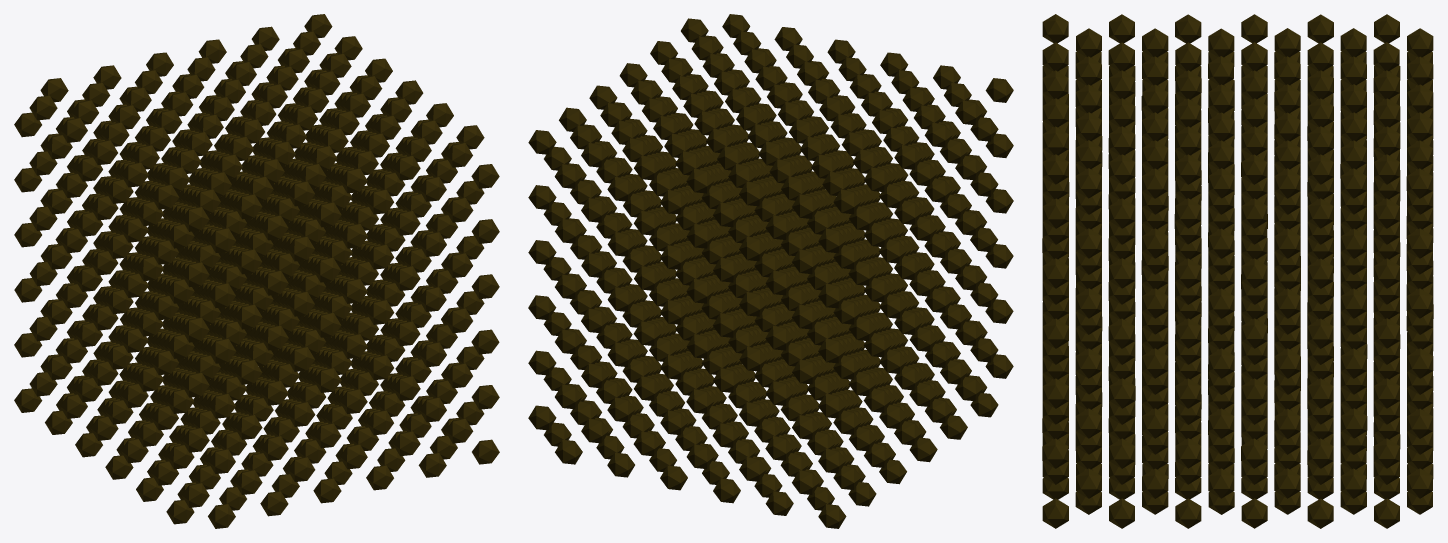
File: research_cu.glb
3 views of the same model, side by side, from view 1: azimuth 30°, elevation 25°; view 2: azimuth 150°, elevation 25°; view 3: azimuth 270°, elevation 25° (orthographic). The views are drawn at different scales.
Size of the model in its own units: 21.35 by 21.35 by 21.35.
